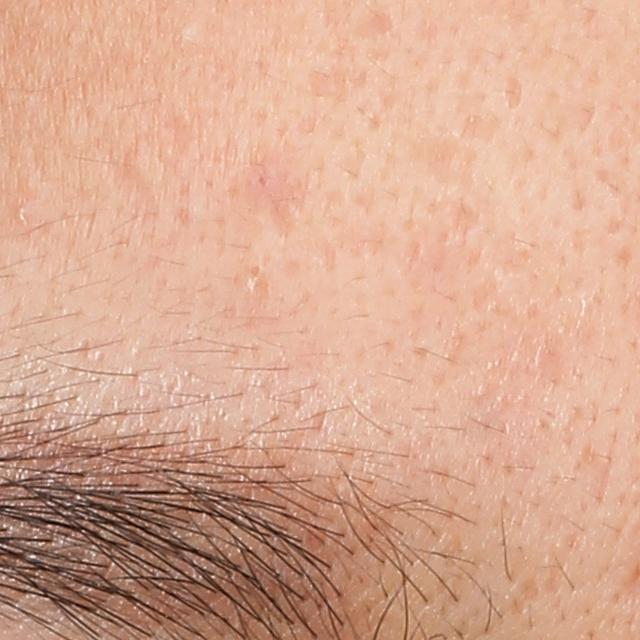atrophic_scar: (236, 158, 301, 256), (407, 132, 465, 187), (305, 60, 372, 102), (446, 196, 484, 246), (345, 9, 393, 39), (501, 68, 524, 112)
comedo: (174, 25, 197, 48), (243, 272, 264, 296), (15, 204, 34, 225)
